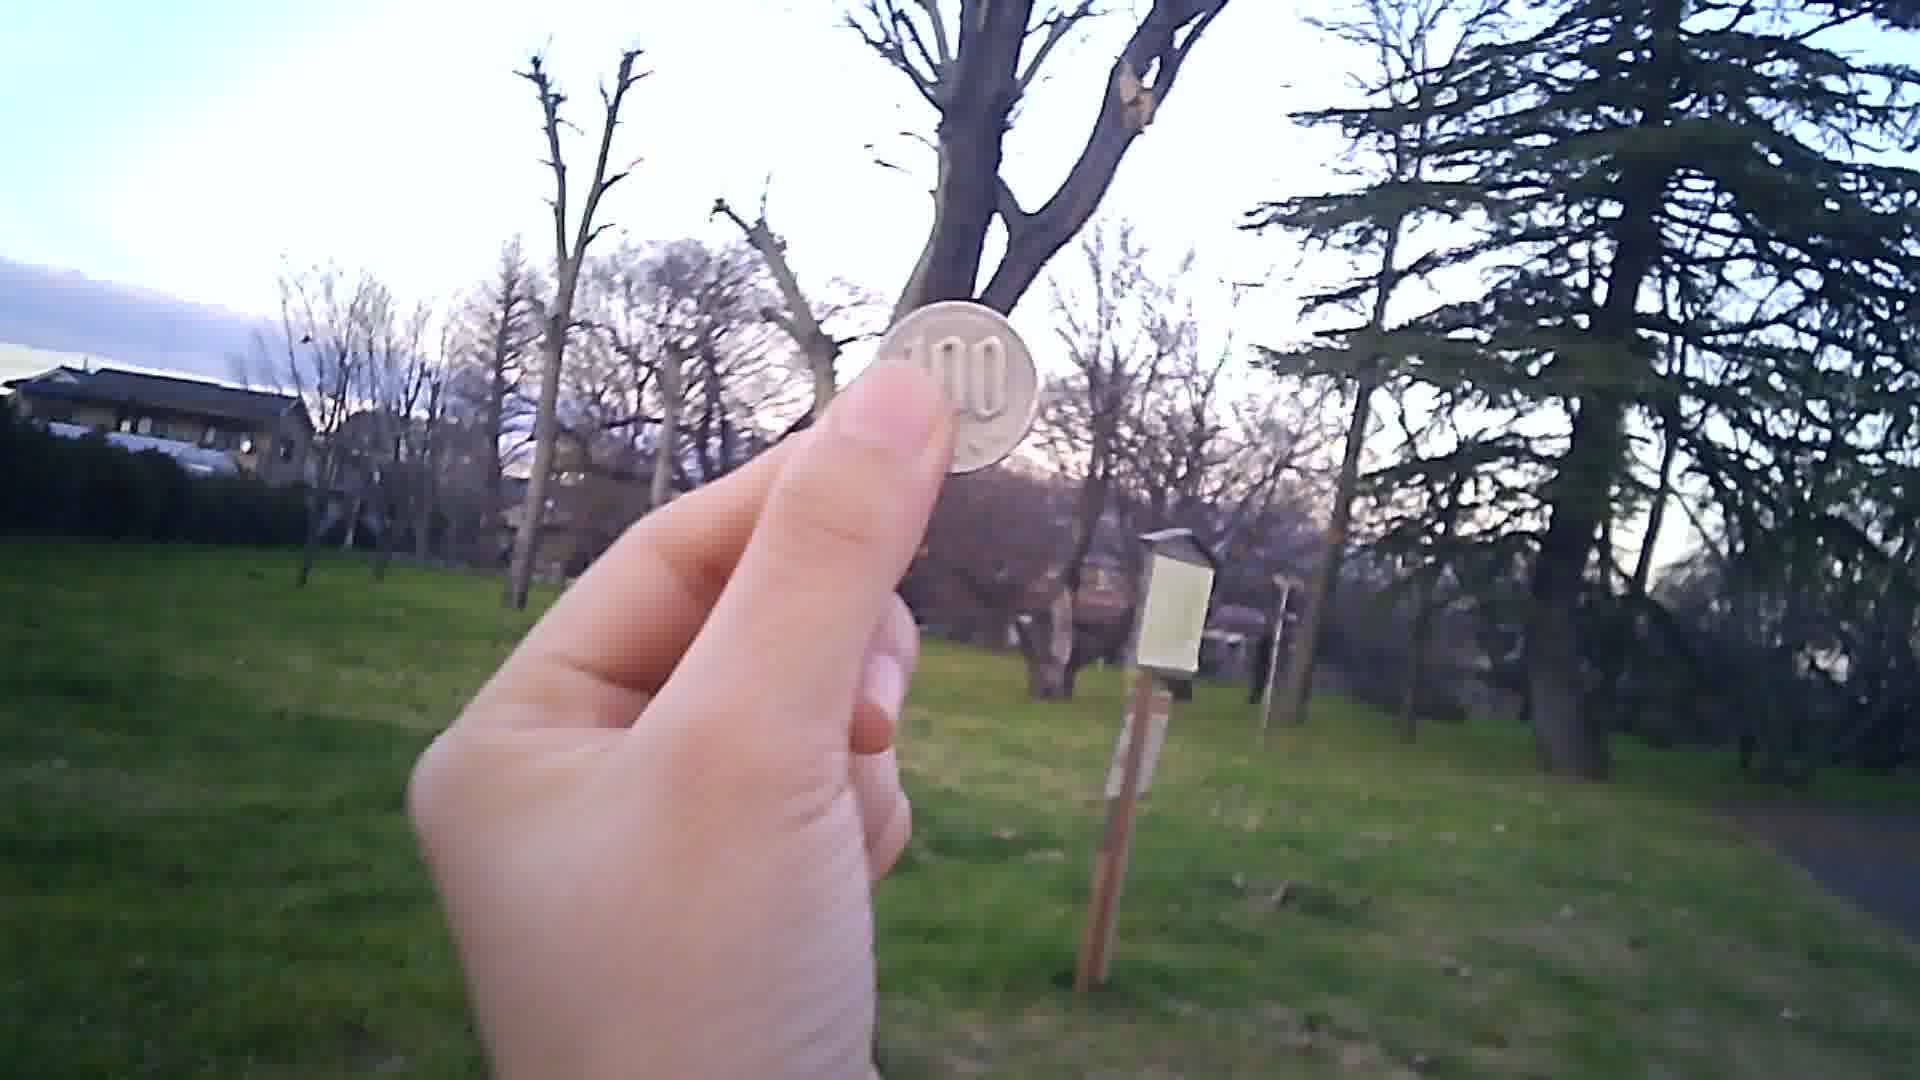100 Yen: (870, 294, 1042, 477)
